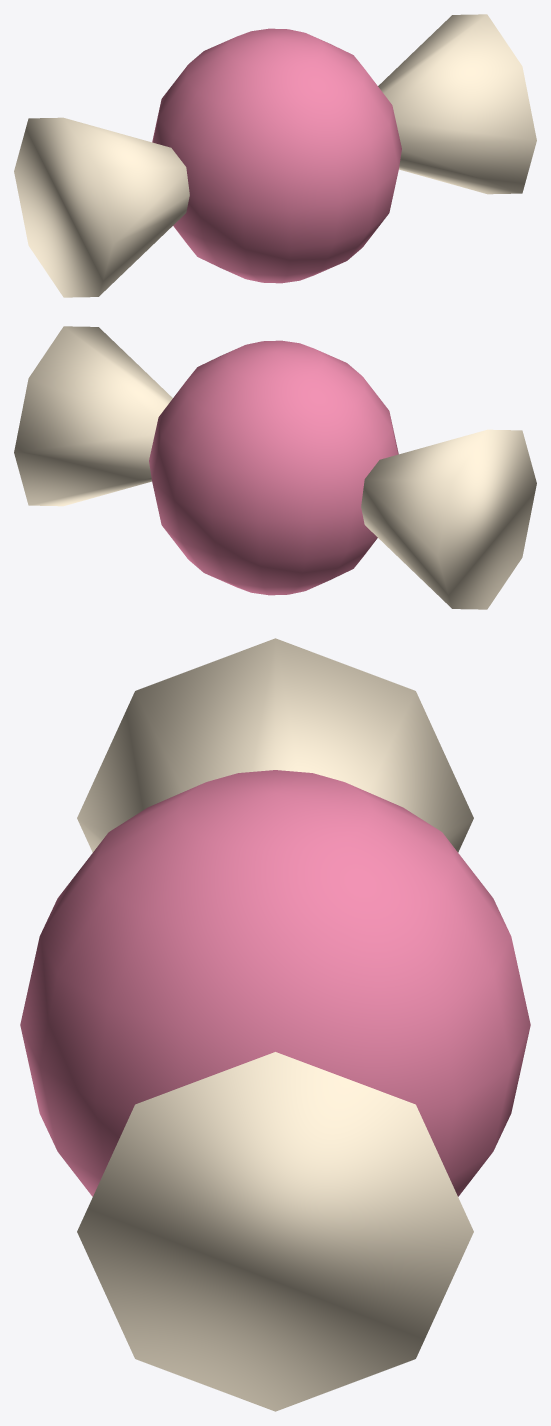
Rendered from candy_pickup.glb.
3 views of the same model, one above another, from view 1: azimuth 30°, elevation 25°; view 2: azimuth 150°, elevation 25°; view 3: azimuth 270°, elevation 25° (orthographic). The views are drawn at different scales.
Parts seen in each view (by area): view 1: candy_pickup; view 2: candy_pickup; view 3: candy_pickup.
Boxes of the visible parts, box(x1,y1,x2,y2) form: candy_pickup: box(14, 14, 536, 297); candy_pickup: box(14, 326, 536, 609); candy_pickup: box(20, 638, 530, 1411).
Size of the model in its own units: 0.575 by 0.3 by 0.3.
